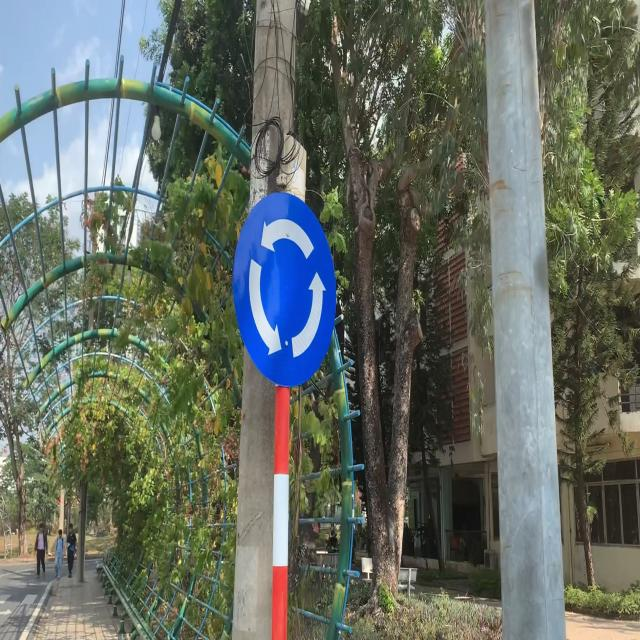Vong xuyen: (232, 184, 342, 393)
